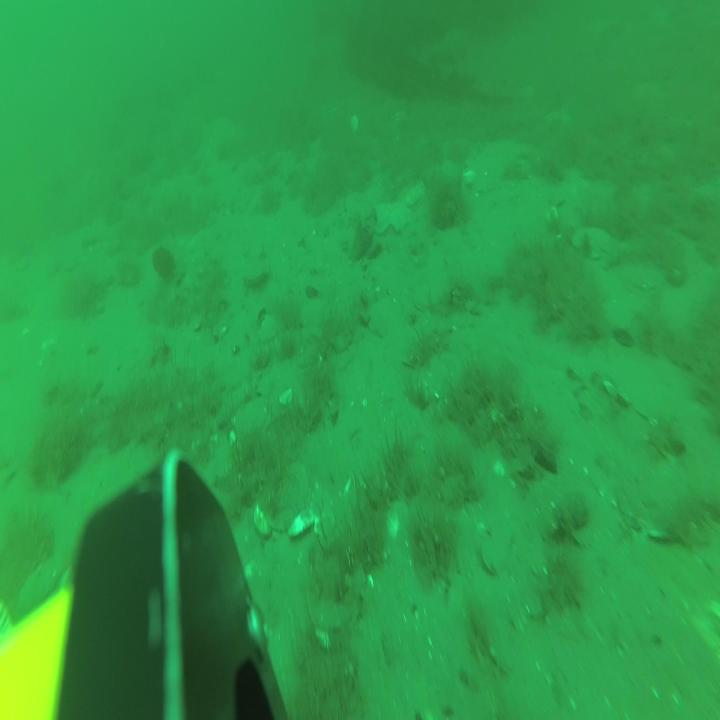scallop: (252, 463, 310, 537), (233, 398, 270, 445), (571, 220, 614, 257), (246, 258, 270, 286), (402, 183, 423, 209), (350, 112, 359, 132)
starfish: (374, 198, 414, 234)
